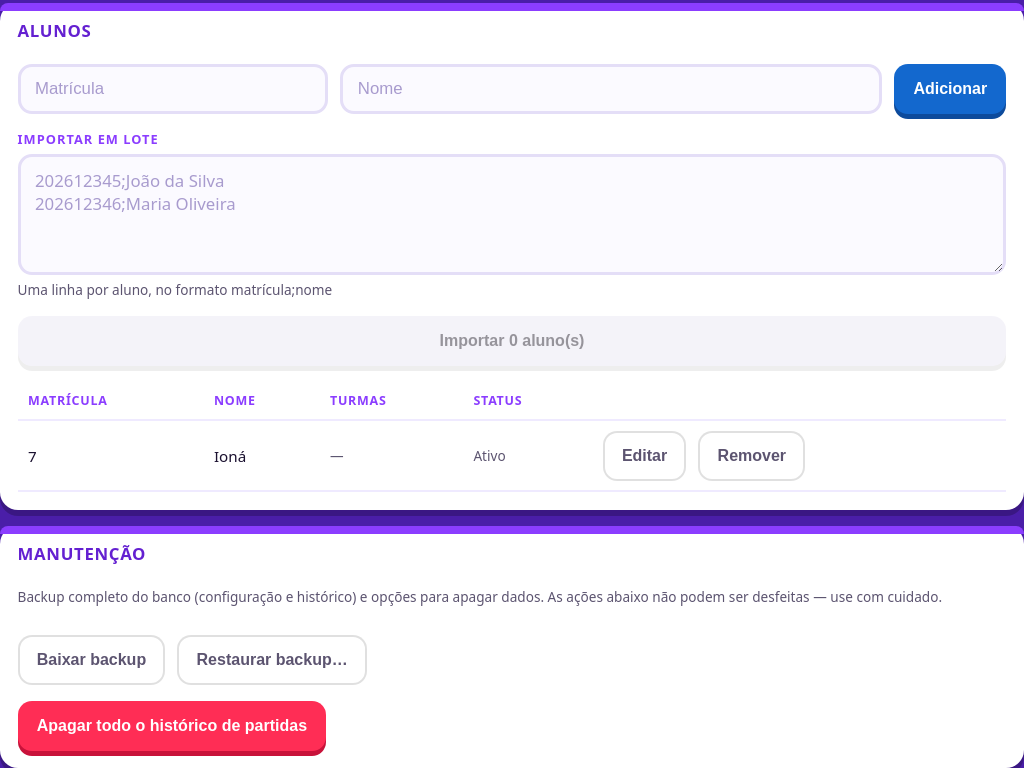
Test: ConfigPanel — Alunos › treats a missing enrollments array as no enrollments, in both display and edit mode
(page scrolled)
Expected: the text "—" is shown, [320,420,463,492]
Click the button "Editar": click(645, 456) [603,431,686,481]
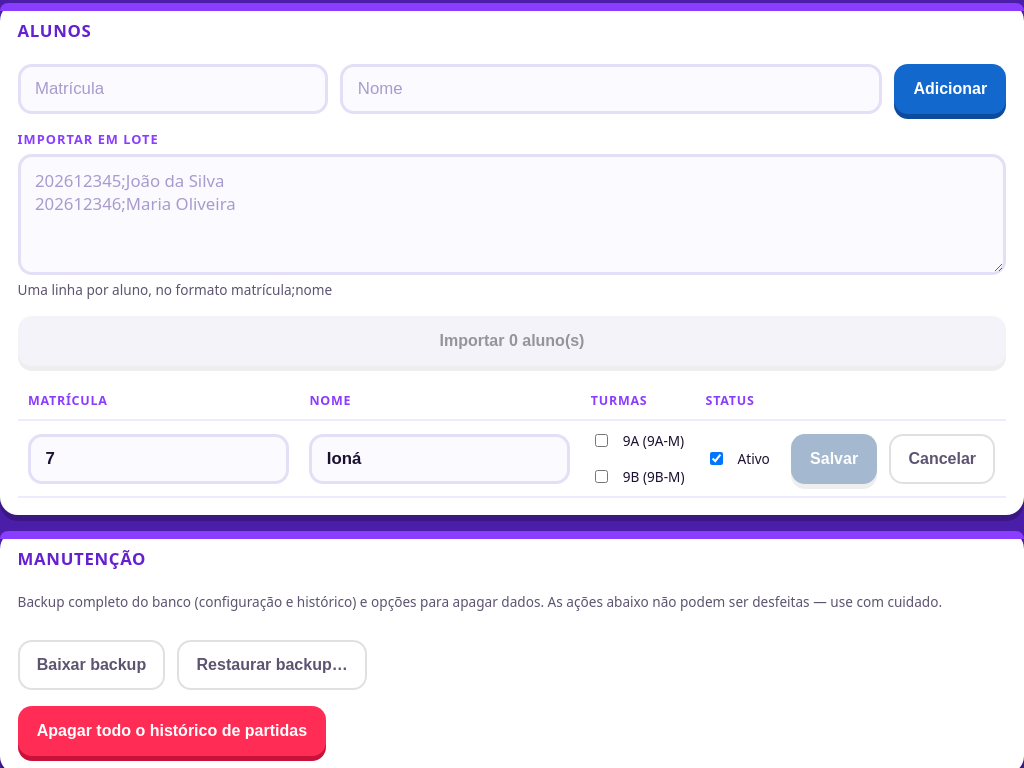
Expected: the button "Salvar" is disabled, [791,434,877,484]
